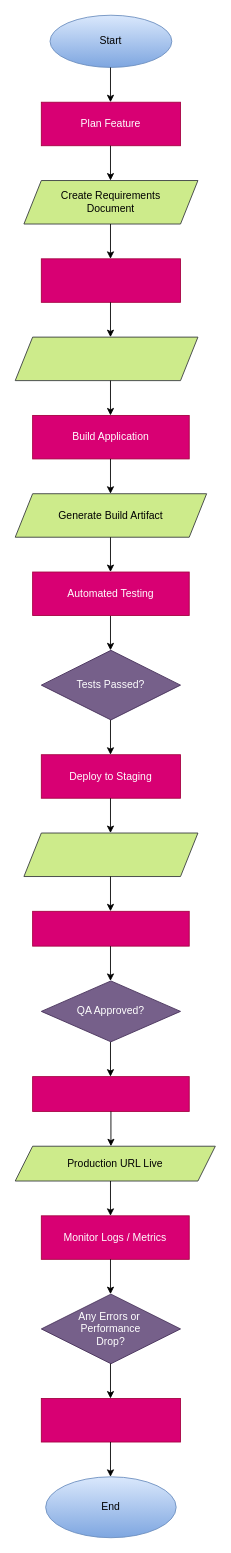
Image size: 231x1553. Some labels were removed from this diagram. The centre of each missing label's shape, as x and y in pixels:
"Access Staging URL" goes at point 110,854.
"Alert Developers" goes at point 110,1420.
"Deploy to Production" goes at point 110,1093.
"Develop Code" goes at point 110,280.
"Manual QA Testing" goes at point 110,928.
"Push to GitHub Repo" goes at point 106,358.
